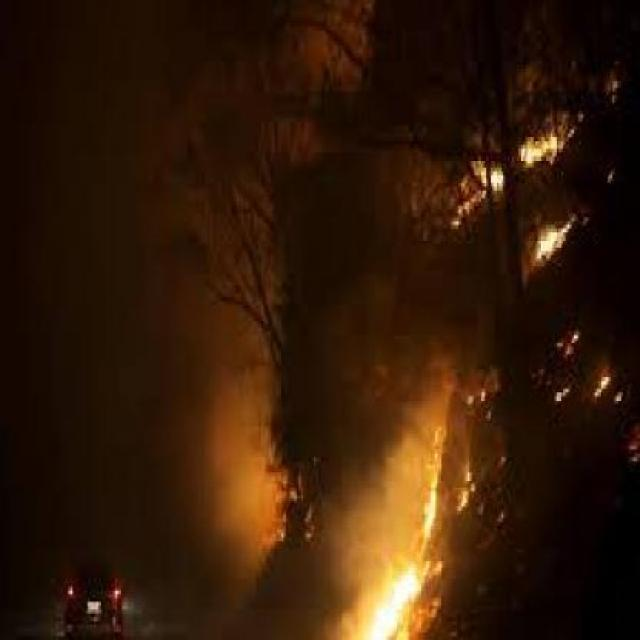Fire: (411, 86, 615, 303), (335, 435, 478, 640)
